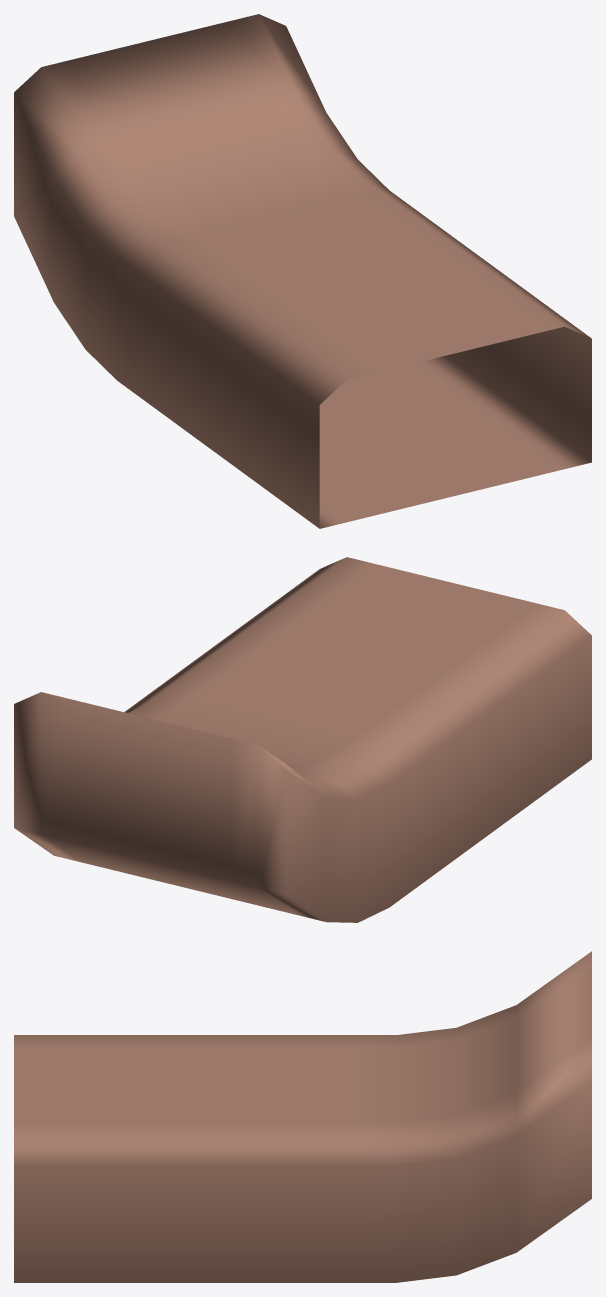
The model's file is LavaFloor_001.fbx.
The picture shows the model from 3 angles, top to bottom: view 1: azimuth 30°, elevation 25°; view 2: azimuth 150°, elevation 25°; view 3: azimuth 270°, elevation 25°; orthographic projection. The views are drawn at different scales.
Parts seen in each view (by area): view 1: LavaPlane; view 2: LavaPlane; view 3: LavaPlane.
Part boxes in pixels (x1=…): LavaPlane: x1=14, y1=14, x2=591, y2=528; LavaPlane: x1=14, y1=557, x2=591, y2=922; LavaPlane: x1=14, y1=951, x2=591, y2=1282.
Size of the model in its own units: 13 by 10.56 by 25.29.
